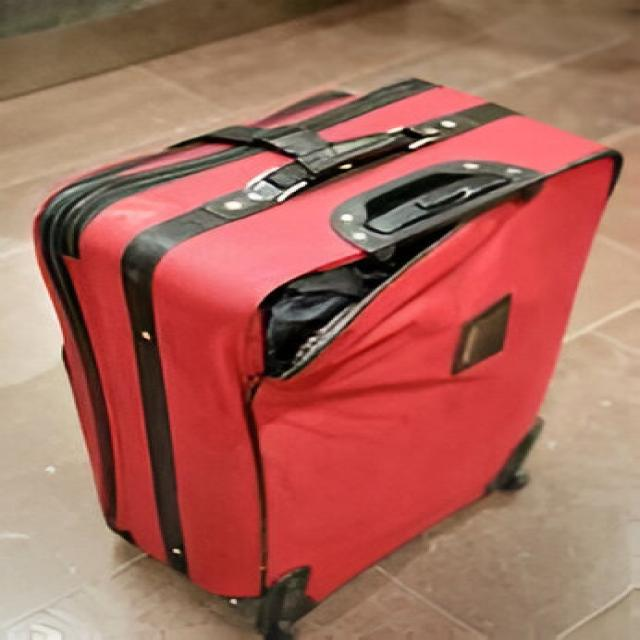Damage-bag: (233, 221, 458, 409)
